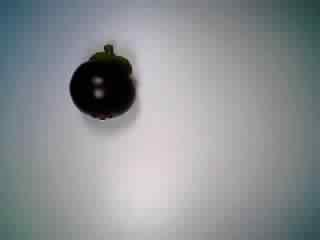mangosteen: (62, 39, 137, 122)
